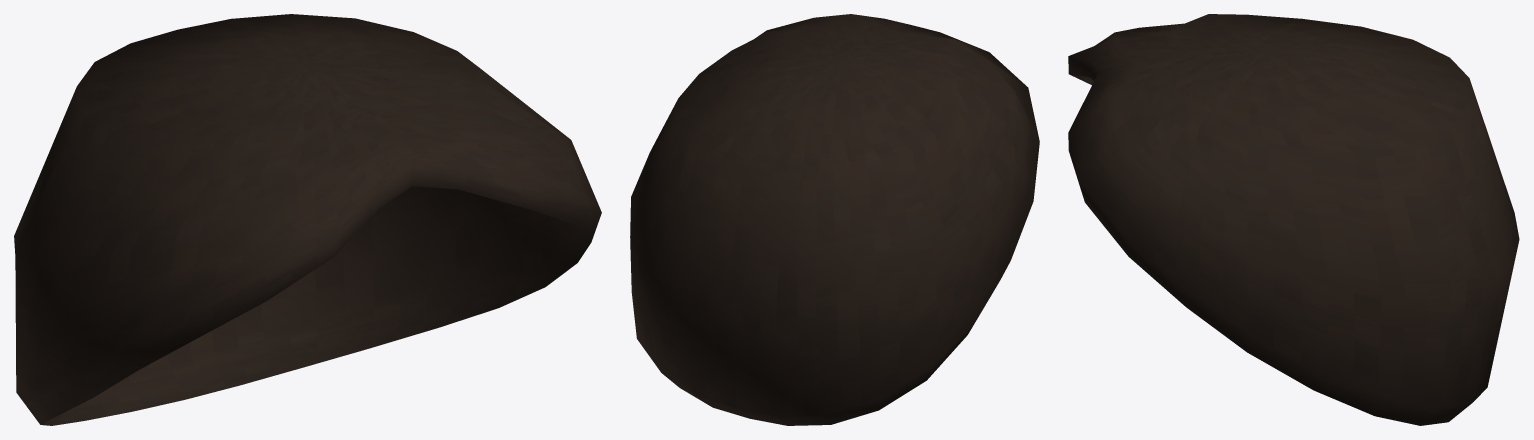
Rendered from headwear_hair.glb.
3 renders of one model, left to right at view 1: azimuth 30°, elevation 25°; view 2: azimuth 150°, elevation 25°; view 3: azimuth 270°, elevation 25°, orthographic. The views are drawn at different scales.
Visible parts, largest first — view 1: headwear_hair; view 2: headwear_hair; view 3: headwear_hair.
Part boxes in pixels (box(x1,y1,x2,y2)): headwear_hair: box(14, 14, 601, 425); headwear_hair: box(630, 14, 1039, 425); headwear_hair: box(1068, 14, 1519, 425).
Bounding box in the file's own units: 0.2042 × 0.1718 × 0.2077.
1 material, 1 textured.
